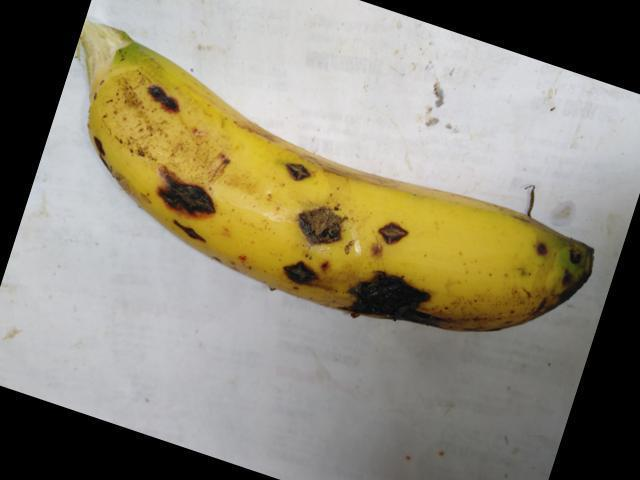rotten: (142, 156, 225, 259), (342, 262, 444, 329), (272, 192, 351, 253), (82, 129, 136, 214), (361, 188, 417, 257), (267, 248, 324, 295), (279, 146, 332, 193), (138, 80, 187, 121)
